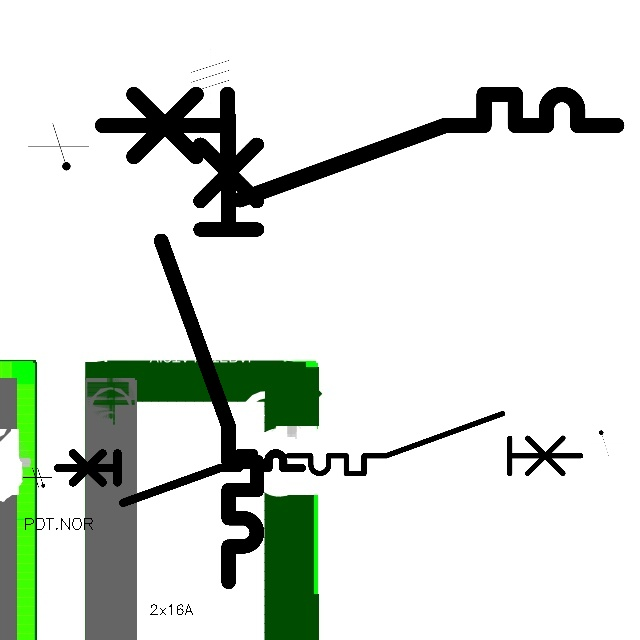interruptor_termomagnetico: (89, 81, 630, 213), (149, 104, 269, 594), (281, 406, 588, 481), (51, 447, 307, 509)
